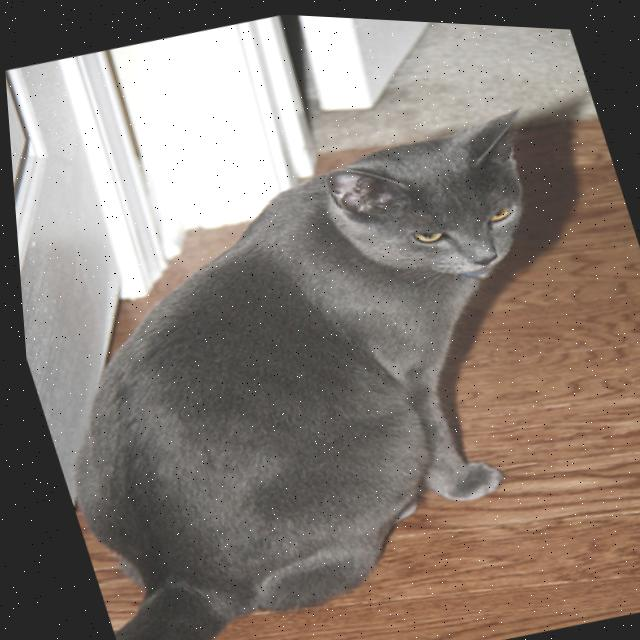Russian Blue: (4, 72, 640, 640)
